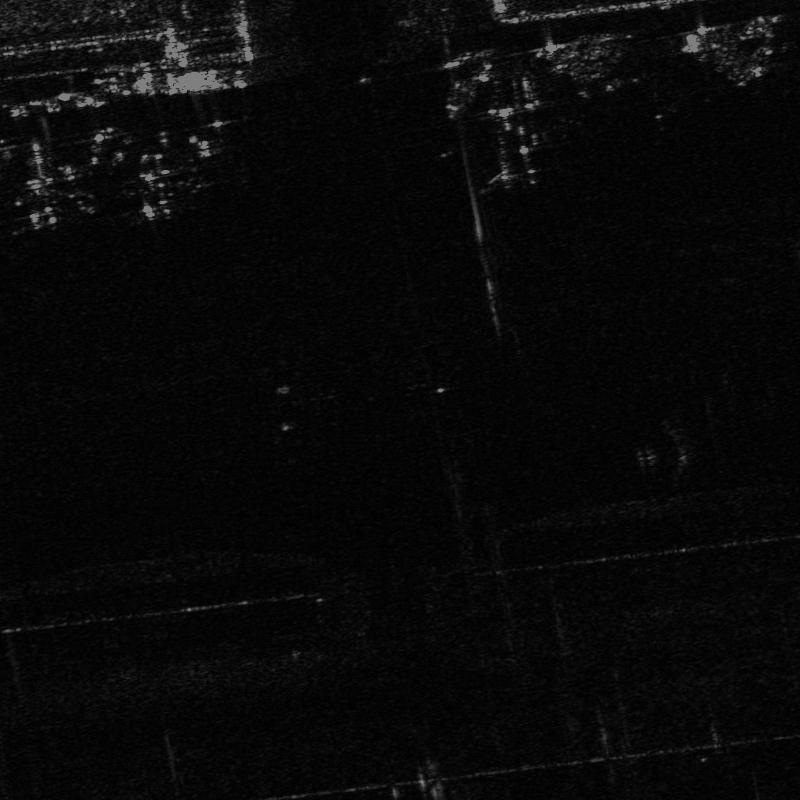Boeing787: (8, 144, 92, 238), (126, 138, 191, 221)
other: (439, 96, 571, 195)
